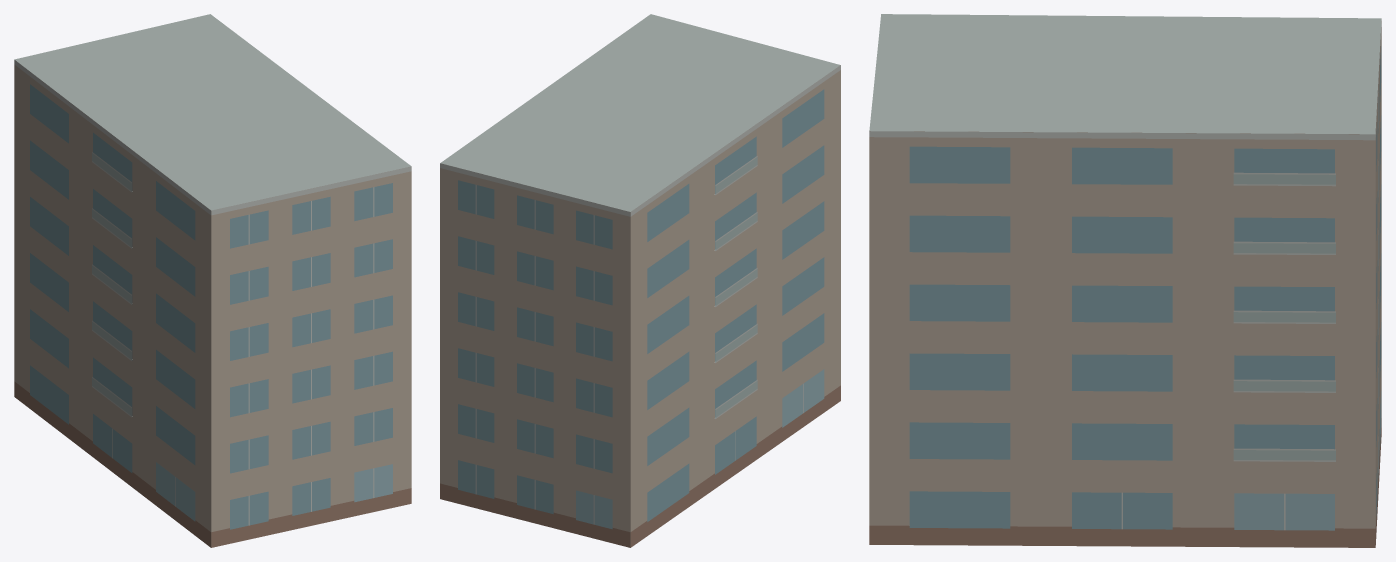
Rendered from survey-upis-32874588.glb.
3 renders of one model, left to right at view 1: azimuth 30°, elevation 25°; view 2: azimuth 150°, elevation 25°; view 3: azimuth 270°, elevation 25°, orthographic. The views are drawn at different scales.
Parts seen in each view (by area): view 1: survey-upis-32874588.tmp; view 2: survey-upis-32874588.tmp; view 3: survey-upis-32874588.tmp.
Boxes of the visible parts, box(x1,y1,x2,y2) form: survey-upis-32874588.tmp: box(14, 14, 411, 547); survey-upis-32874588.tmp: box(440, 14, 840, 547); survey-upis-32874588.tmp: box(869, 14, 1381, 547).
Size of the model in its own units: 10.49 by 16.8 by 18.87.
